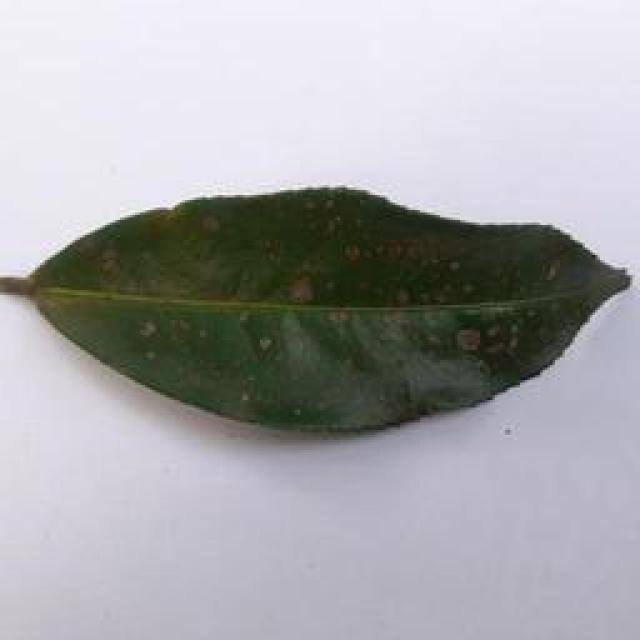Algal Leaf Spot: (29, 185, 632, 437)
